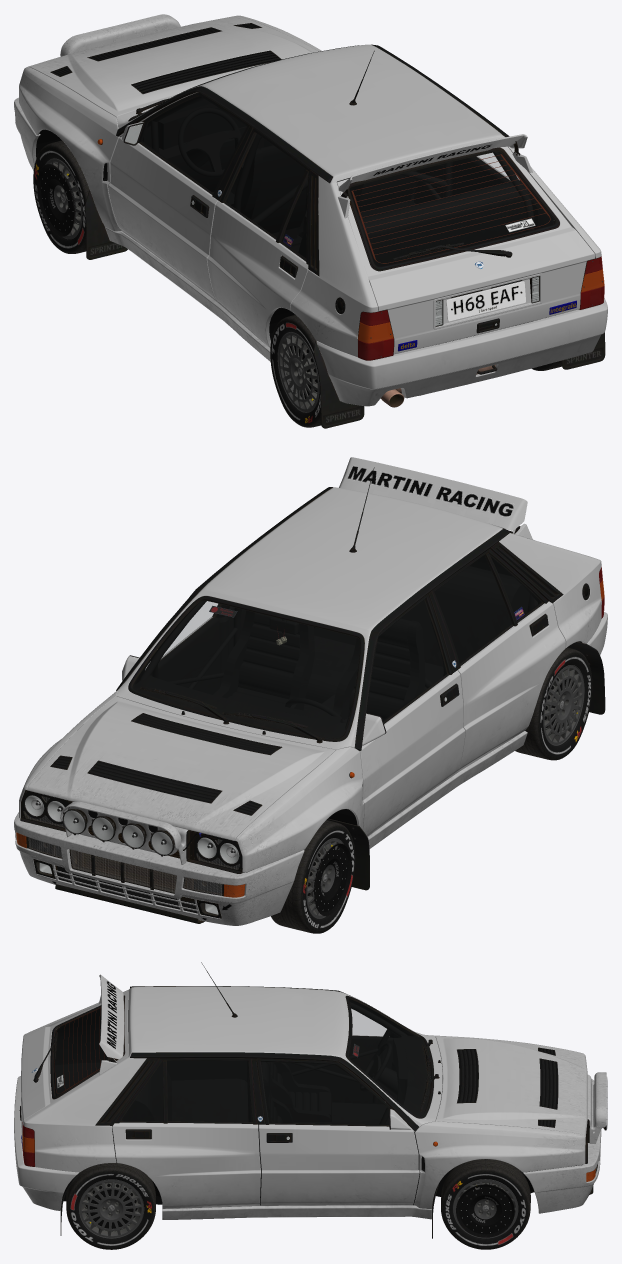
Rendered from lancia-delta.glb.
The picture shows the model from 3 angles, top to bottom: view 1: azimuth 30°, elevation 25°; view 2: azimuth 150°, elevation 25°; view 3: azimuth 270°, elevation 25°; orthographic projection. The views are drawn at different scales.
Visible parts, largest first — view 1: Body, Black, Glass, Detail, wheel_FL_part (×3), wheel_RL_part (×2), Heating threads, Light glass.001, Light Glass Bump.001, Number Plate; view 2: Body, Black, Glass, Detail, wheel_FL_part (×3), wheel_RL_part (×2), Light Front, Light Glass Bump, Frame; view 3: Body, Black, Glass, Detail, wheel_FR_part (×3), wheel_RR_part (×3), Heating threads, Light glass.001, Light Glass Bump.001.
Boxes of the visible parts, x1,y1,x2,y2 form: Body: (14,14,607,406); Black: (36,24,595,344); Glass: (141,96,554,266); Detail: (50,23,605,428); wheel_FL_part (×3): (33,140,89,253); wheel_RL_part (×2): (270,315,320,427); Heating threads: (351,154,550,263); Light glass.001: (358,256,604,360); Light Glass Bump.001: (358,258,603,359); Number Plate: (446,281,525,321); Body: (14,457,607,925); Black: (26,550,581,913); Glass: (133,556,541,737); Detail: (20,467,605,923); wheel_FL_part (×3): (271,820,355,933); wheel_RL_part (×2): (515,647,592,760); Light Front: (25,697,446,914); Light Glass Bump: (25,796,238,915); Frame: (24,796,239,894); Body: (14,974,606,1219); Black: (53,999,581,1205); Glass: (53,999,430,1124); Detail: (19,962,606,1238); wheel_FR_part (×3): (441,1159,530,1249); wheel_RR_part (×3): (66,1162,155,1249); Heating threads: (54,1007,115,1093); Light glass.001: (22,1122,34,1166); Light Glass Bump.001: (23,1126,34,1165).
Bounding box in the file's own units: 1.71 × 1.72 × 3.93.
Materials: 20 (19 with a texture image).
